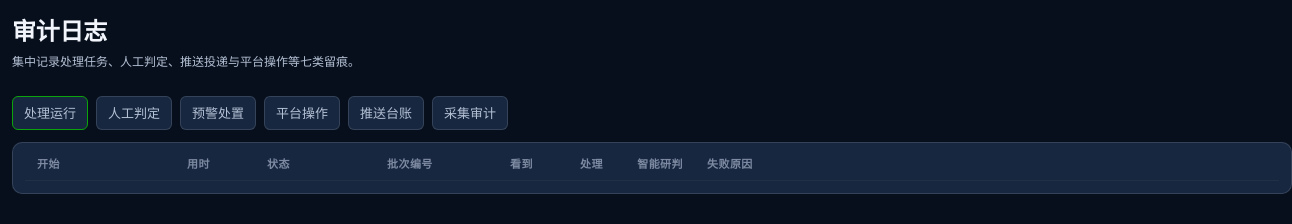
it: 审计页 · 平台操作 › 空表说自己是空的，并且说清不回填
The image size is (1292, 224).
Click the button "平台操作". click: click(302, 113)
box: top-left (264, 96), bottom-right (340, 130)
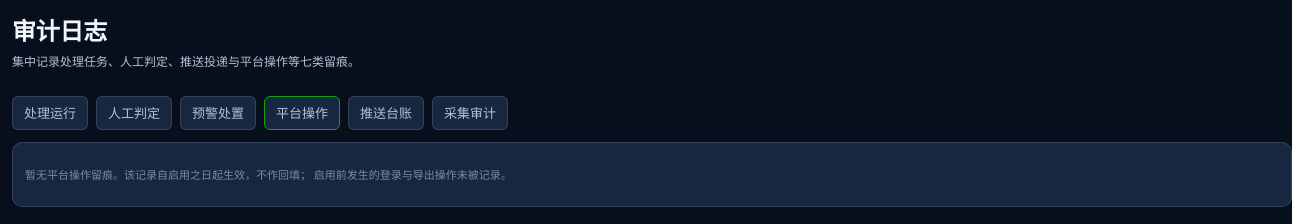
Expected: the text "不作回填" is shown, top-left (25, 167), bottom-right (512, 182)
